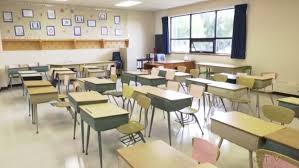desk: (207, 108, 285, 166), (76, 102, 136, 155), (145, 86, 194, 138), (24, 86, 63, 127), (206, 79, 252, 113), (64, 89, 108, 105)
